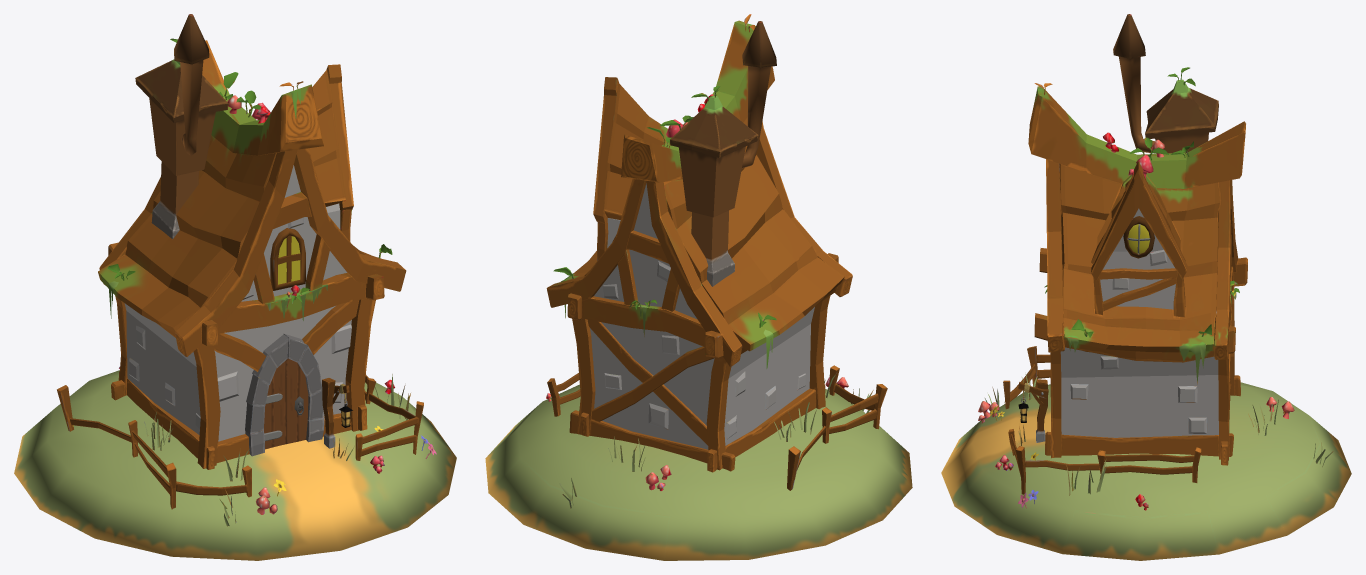
File: cottage.glb
The picture shows the model from 3 angles, left to right: view 1: azimuth 30°, elevation 25°; view 2: azimuth 150°, elevation 25°; view 3: azimuth 270°, elevation 25°; orthographic projection. The views are drawn at different scales.
Parts seen in each view (by area): view 1: Object_4; view 2: Object_4; view 3: Object_4.
Boxes of the visible parts, box(x1,y1,x2,y2) form: Object_4: box(14, 14, 456, 560); Object_4: box(485, 14, 912, 560); Object_4: box(941, 14, 1351, 560).
Size of the model in its own units: 89.49 by 105 by 89.49.
Materials: 1 (1 with a texture image).
